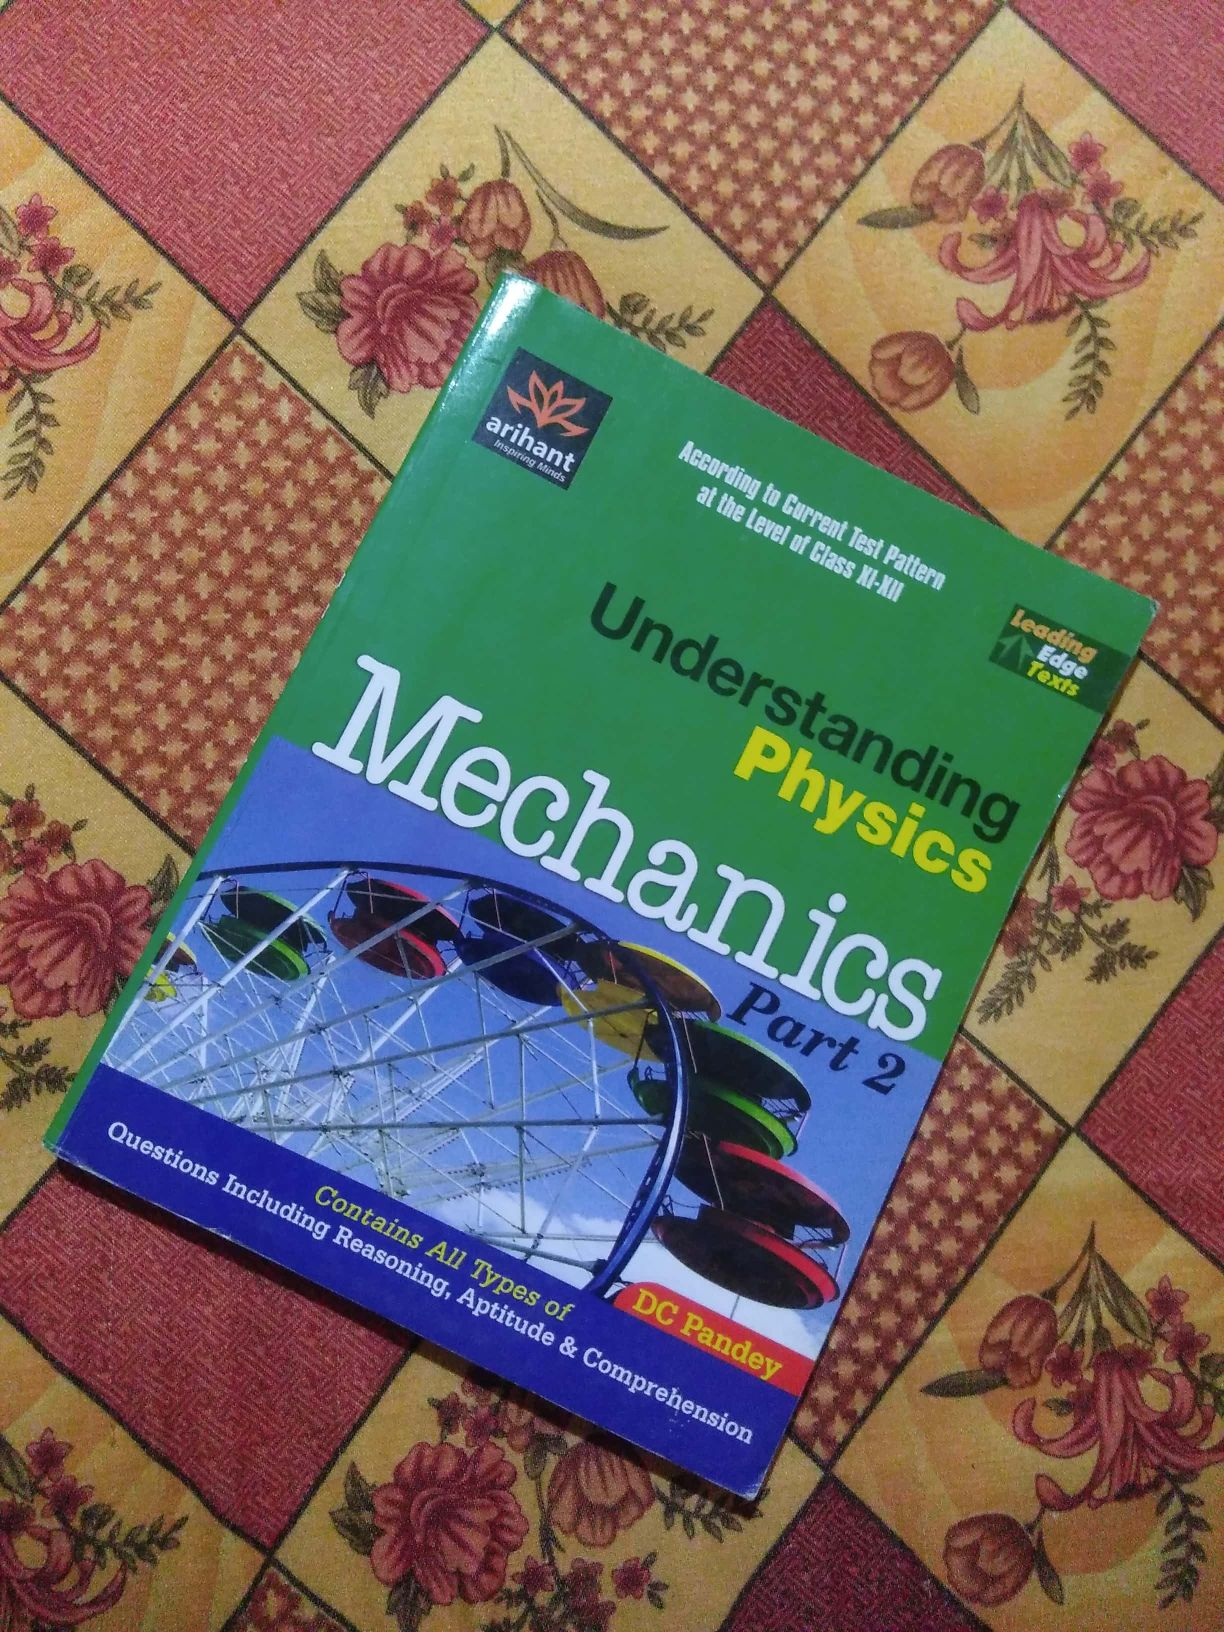mechanics: (138, 290, 1124, 1488)
